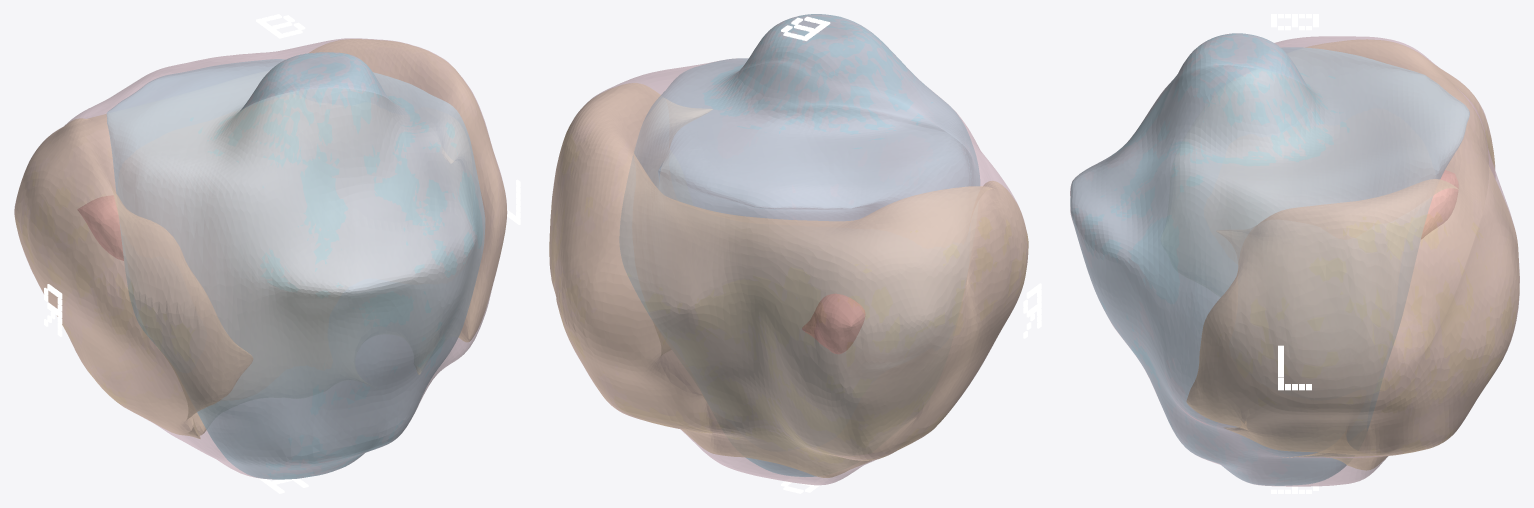
3 renders of one model, left to right at view 1: azimuth 30°, elevation 25°; view 2: azimuth 150°, elevation 25°; view 3: azimuth 270°, elevation 25°, orthographic. The views are drawn at different scales.
Parts seen in each view (by area): view 1: prostate_gland, transition_zone, peripheral_zone, lesion_01, pv_ar_marker_B, pv_ar_marker_R; view 2: prostate_gland, peripheral_zone, transition_zone, lesion_01, pv_ar_marker_B, pv_ar_marker_R; view 3: prostate_gland, transition_zone, peripheral_zone, lesion_01, pv_ar_marker_B.
Part boxes in pixels (x1=…): prostate_gland: x1=14, y1=38, x2=507, y2=479; transition_zone: x1=107, y1=52, x2=484, y2=479; peripheral_zone: x1=15, y1=39, x2=506, y2=438; lesion_01: x1=78, y1=195, x2=123, y2=260; pv_ar_marker_B: x1=256, y1=14, x2=305, y2=38; pv_ar_marker_R: x1=44, y1=284, x2=62, y2=336; prostate_gland: x1=549, y1=14, x2=1028, y2=485; peripheral_zone: x1=549, y1=83, x2=1028, y2=477; transition_zone: x1=619, y1=14, x2=980, y2=476; lesion_01: x1=802, y1=294, x2=865, y2=353; pv_ar_marker_B: x1=781, y1=16, x2=830, y2=40; pv_ar_marker_R: x1=1023, y1=283, x2=1041, y2=338; prostate_gland: x1=1070, y1=33, x2=1519, y2=486; transition_zone: x1=1070, y1=33, x2=1469, y2=485; peripheral_zone: x1=1186, y1=39, x2=1519, y2=470; lesion_01: x1=1421, y1=170, x2=1458, y2=238; pv_ar_marker_B: x1=1271, y1=14, x2=1318, y2=30.
Bounding box in the file's own units: 0.0418 × 0.0397 × 0.0348.
